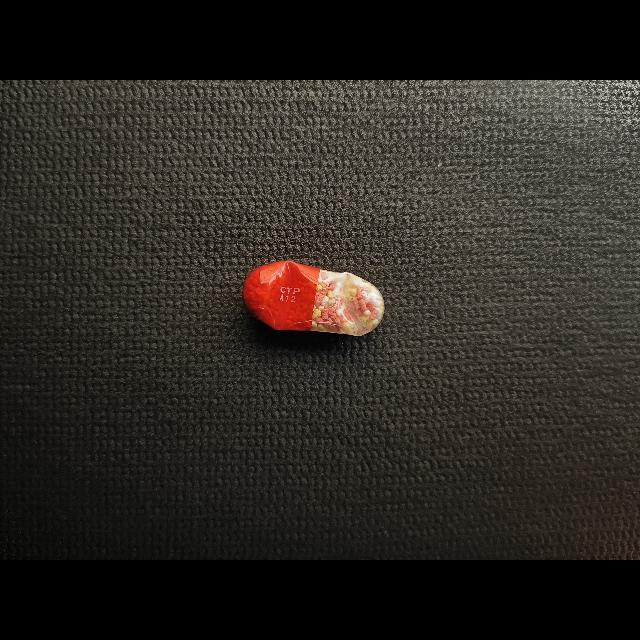Defective Capsule: (243, 261, 385, 336)
